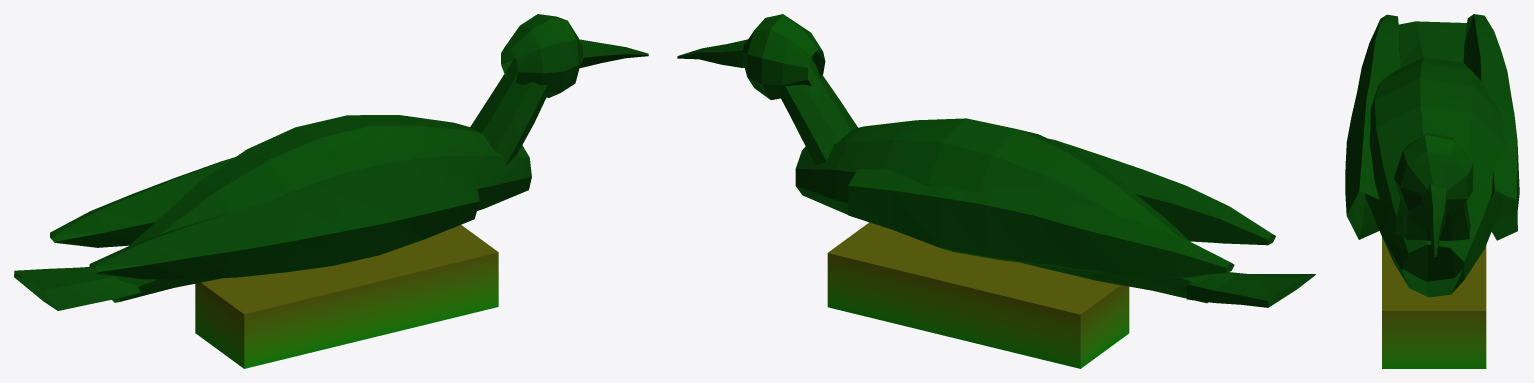
The model's file is lintel_gull_a.glb.
3 views of the same model, side by side, from view 1: azimuth 30°, elevation 25°; view 2: azimuth 150°, elevation 25°; view 3: azimuth 270°, elevation 25° (orthographic). The views are drawn at different scales.
Parts seen in each view (by area): view 1: lintel_gull_a; view 2: lintel_gull_a; view 3: lintel_gull_a.
Part boxes in pixels (left/top/right/bottom): lintel_gull_a: left=14, top=14, right=648, bottom=368; lintel_gull_a: left=677, top=14, right=1315, bottom=368; lintel_gull_a: left=1345, top=14, right=1519, bottom=368.
Size of what is drawn, in the model's own units: 0.9443 by 0.3745 by 0.2175.
